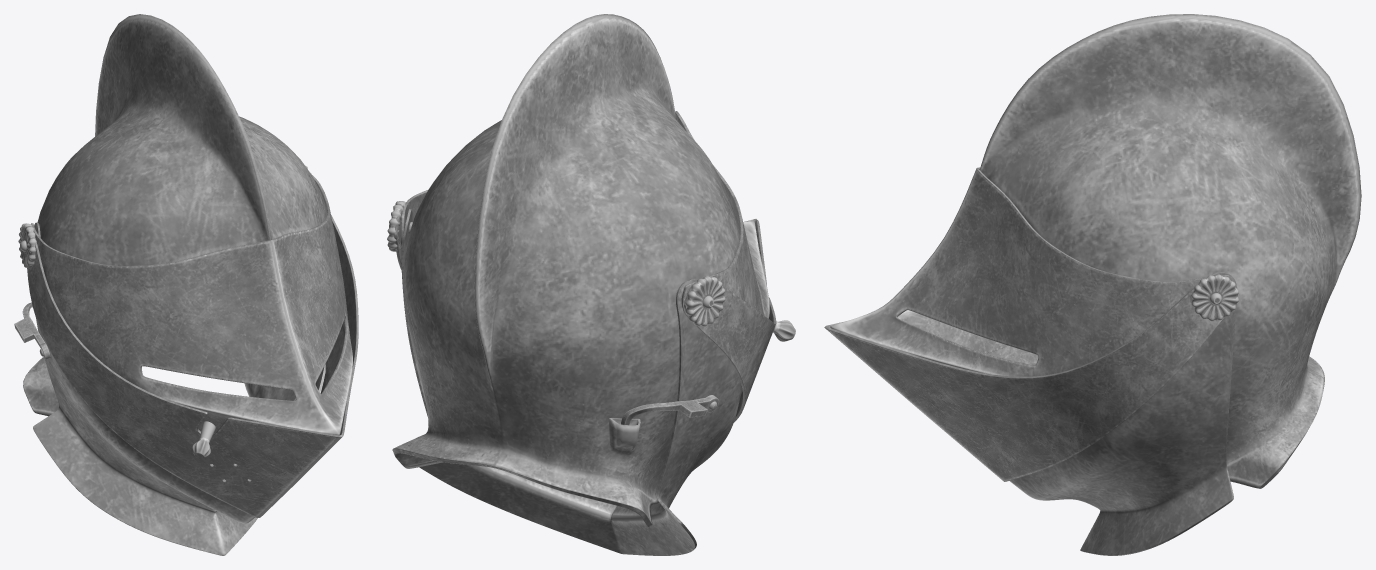
3 views of the same model, side by side, from view 1: azimuth 30°, elevation 25°; view 2: azimuth 150°, elevation 25°; view 3: azimuth 270°, elevation 25° (orthographic). The views are drawn at different scales.
Visible parts, largest first — view 1: helm, uppervisor, lowervisor, bevor, clasp, hinger; view 2: helm, bevor, lowervisor, uppervisor, hinger, clasp, hingel; view 3: helm, uppervisor, lowervisor, bevor, hingel.
Part boxes in pixels (bbox=[...]): helm: bbox=[23, 14, 327, 416]; uppervisor: bbox=[31, 174, 352, 459]; lowervisor: bbox=[27, 215, 358, 517]; bevor: bbox=[33, 222, 325, 555]; clasp: bbox=[14, 302, 50, 359]; hinger: bbox=[18, 223, 36, 268]; helm: bbox=[392, 14, 740, 527]; bevor: bbox=[401, 209, 742, 555]; lowervisor: bbox=[394, 206, 776, 422]; uppervisor: bbox=[401, 111, 795, 341]; hinger: bbox=[685, 276, 725, 326]; clasp: bbox=[621, 395, 719, 425]; hingel: bbox=[387, 201, 412, 251]; helm: bbox=[979, 14, 1361, 488]; uppervisor: bbox=[830, 167, 1231, 376]; lowervisor: bbox=[824, 280, 1230, 481]; bevor: bbox=[1009, 272, 1237, 555]; hingel: bbox=[1191, 274, 1238, 321].
Bounding box in the file's own units: 165 × 270 × 245.
Materials: 6 (6 with a texture image).
